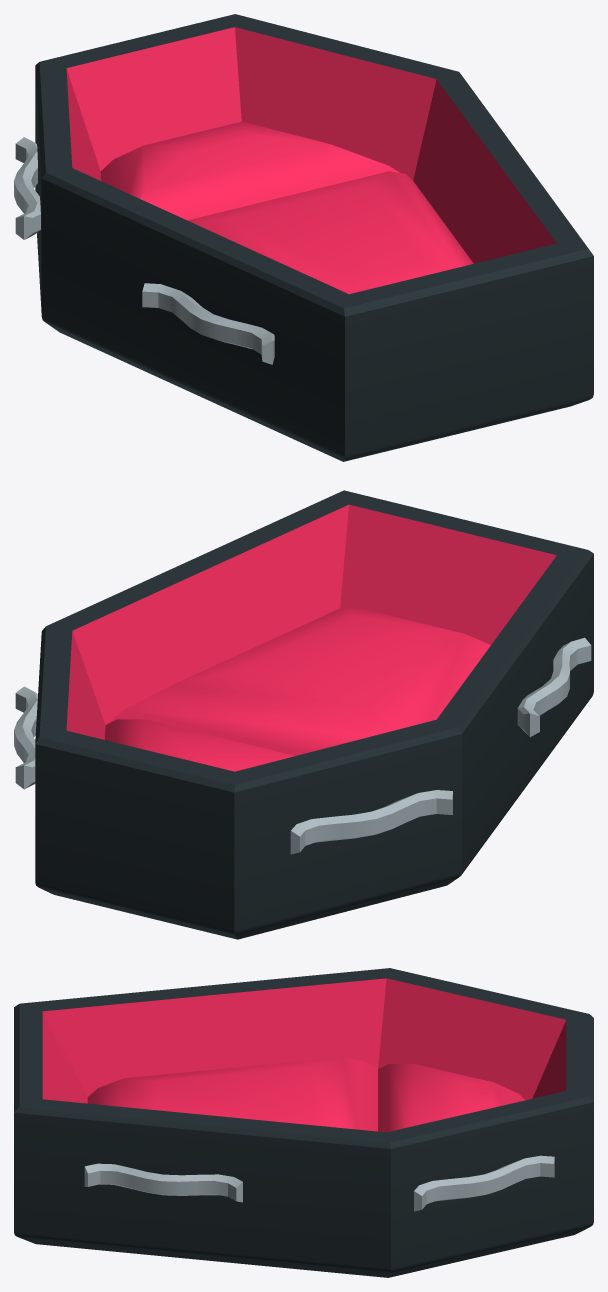
File: coffinB_bottom.gltf.glb
The picture shows the model from 3 angles, top to bottom: view 1: azimuth 30°, elevation 25°; view 2: azimuth 150°, elevation 25°; view 3: azimuth 270°, elevation 25°; orthographic projection. The views are drawn at different scales.
Parts seen in each view (by area): view 1: coffinB_bottom; view 2: coffinB_bottom; view 3: coffinB_bottom.
Boxes of the visible parts, x1,y1,x2,y2 form: coffinB_bottom: (14, 14, 593, 461); coffinB_bottom: (14, 490, 593, 939); coffinB_bottom: (14, 968, 593, 1277).
Size of the model in its own units: 1.51 by 0.5355 by 2.
